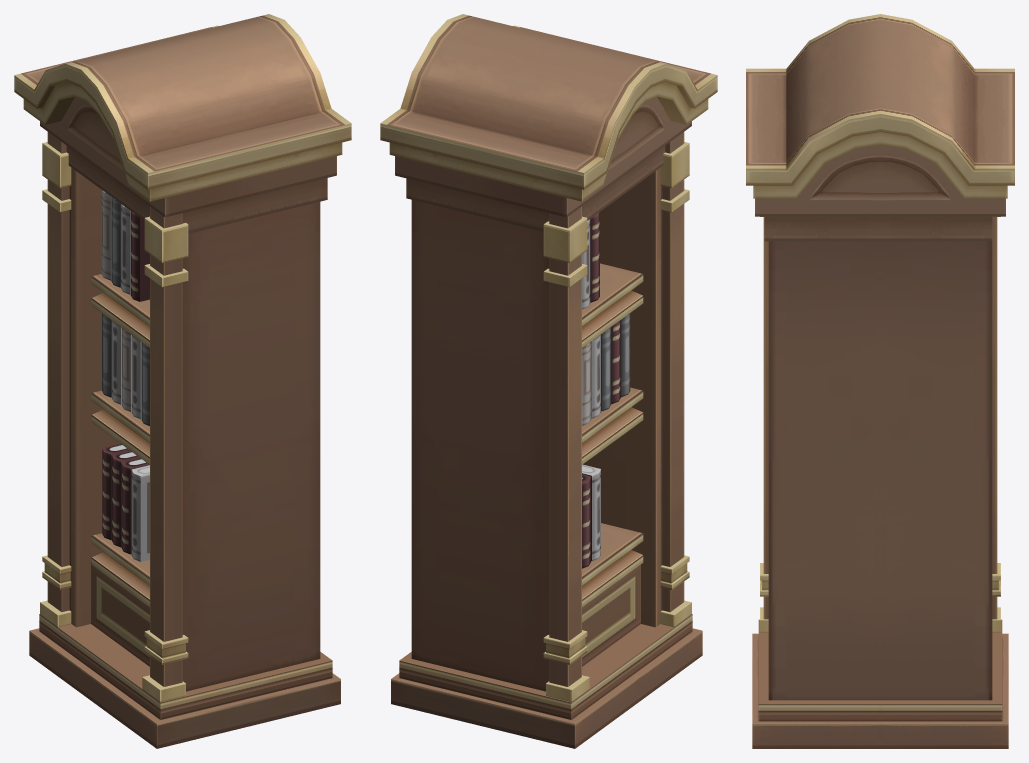
Rendered from my_teaparty_01_shelf_03.glb.
3 renders of one model, left to right at view 1: azimuth 30°, elevation 25°; view 2: azimuth 150°, elevation 25°; view 3: azimuth 270°, elevation 25°, orthographic.
Visible parts, largest first — view 1: my_teaparty_01_shelf_03; view 2: my_teaparty_01_shelf_03; view 3: my_teaparty_01_shelf_03.
Boxes of the visible parts, <box> form: my_teaparty_01_shelf_03: <box>14,14,351,748</box>; my_teaparty_01_shelf_03: <box>380,14,717,748</box>; my_teaparty_01_shelf_03: <box>746,14,1014,748</box>.
Size of the model in its own units: 0.00509 by 0.0152 by 0.0058.
1 material, 1 textured.
